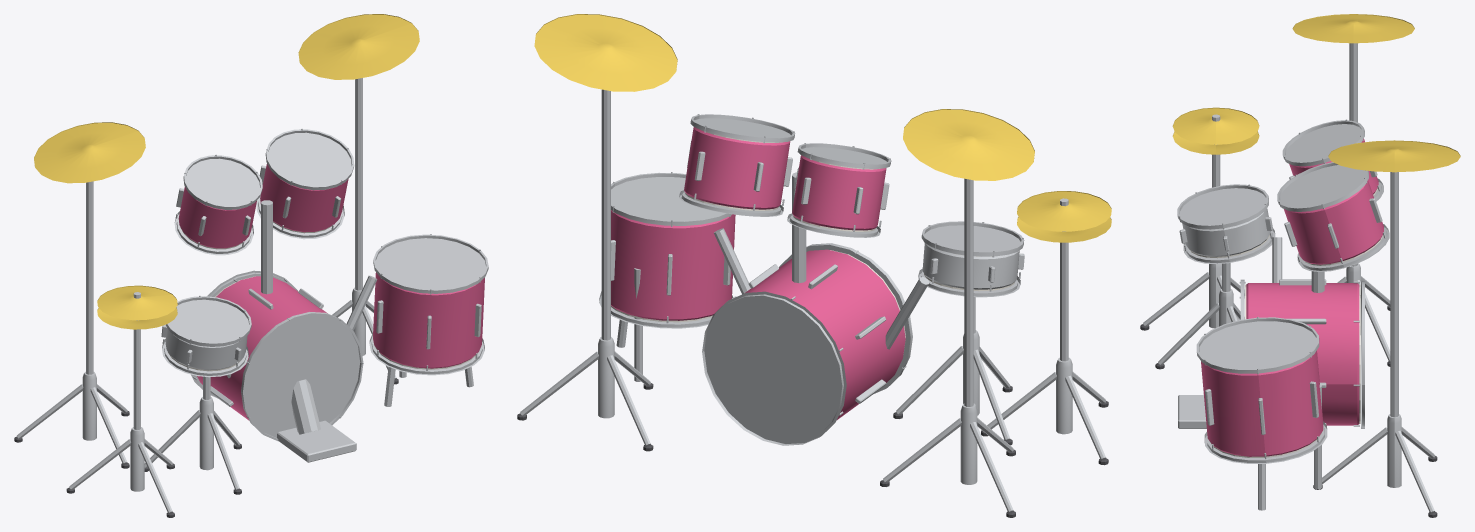
The model's file is live-music-venue-and-festival-stage-drum-kit-shell-set-a2d5fafe.glb.
3 views of the same model, side by side, from view 1: azimuth 30°, elevation 25°; view 2: azimuth 150°, elevation 25°; view 3: azimuth 270°, elevation 25° (orthographic). The views are drawn at different scales.
Visible parts, largest first — view 1: drum-kit-shell-set; view 2: drum-kit-shell-set; view 3: drum-kit-shell-set.
Boxes of the visible parts, x1,y1,x2,y2 form: drum-kit-shell-set: (14,14,488,517); drum-kit-shell-set: (517,14,1111,517); drum-kit-shell-set: (1140,14,1460,517).
Size of the model in its own units: 2.03 by 1.49 by 1.26.
